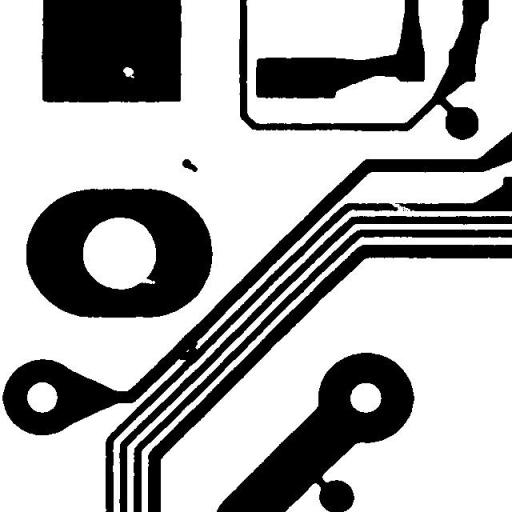copper: (174, 151, 205, 179)
mousebite: (129, 269, 162, 291)
open: (379, 192, 418, 220)
pin-hole: (115, 59, 142, 86)
short: (171, 333, 205, 367)
